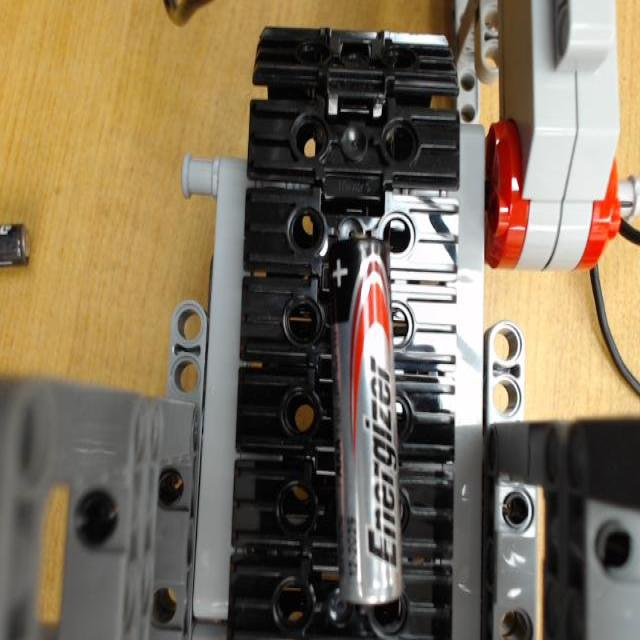AAA: (324, 239, 404, 605)
